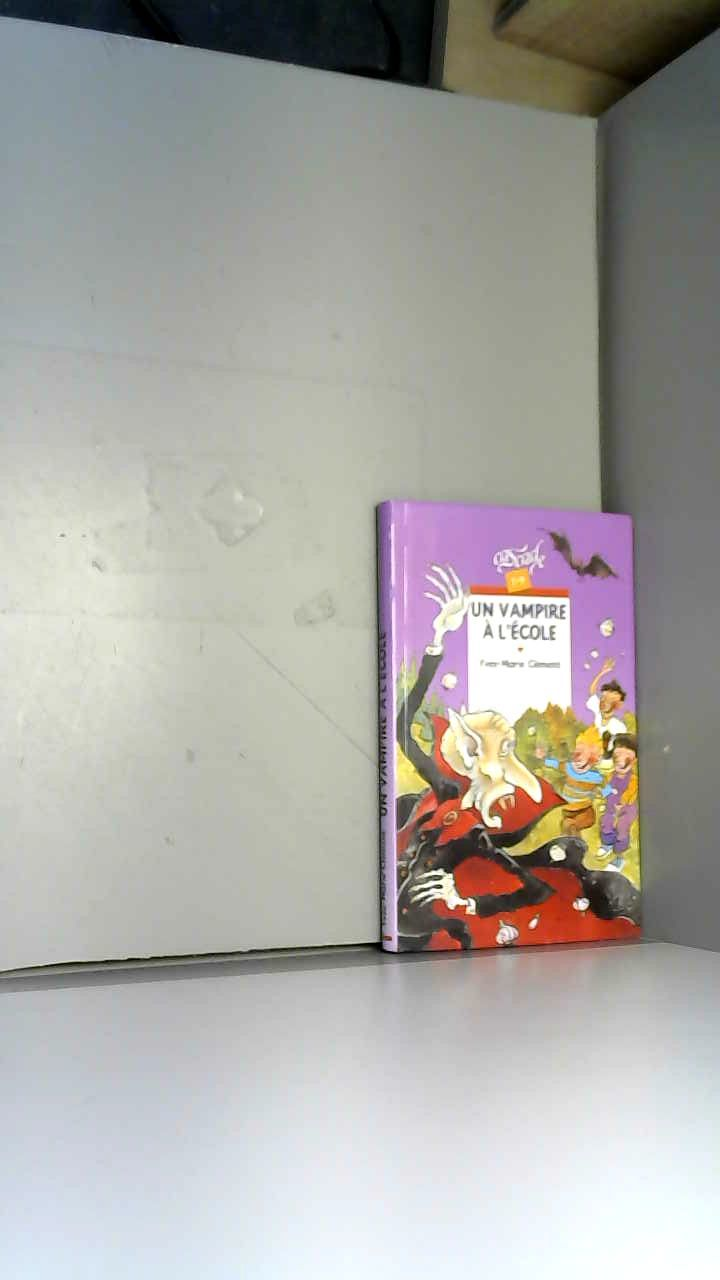book: (343, 459, 674, 990)
